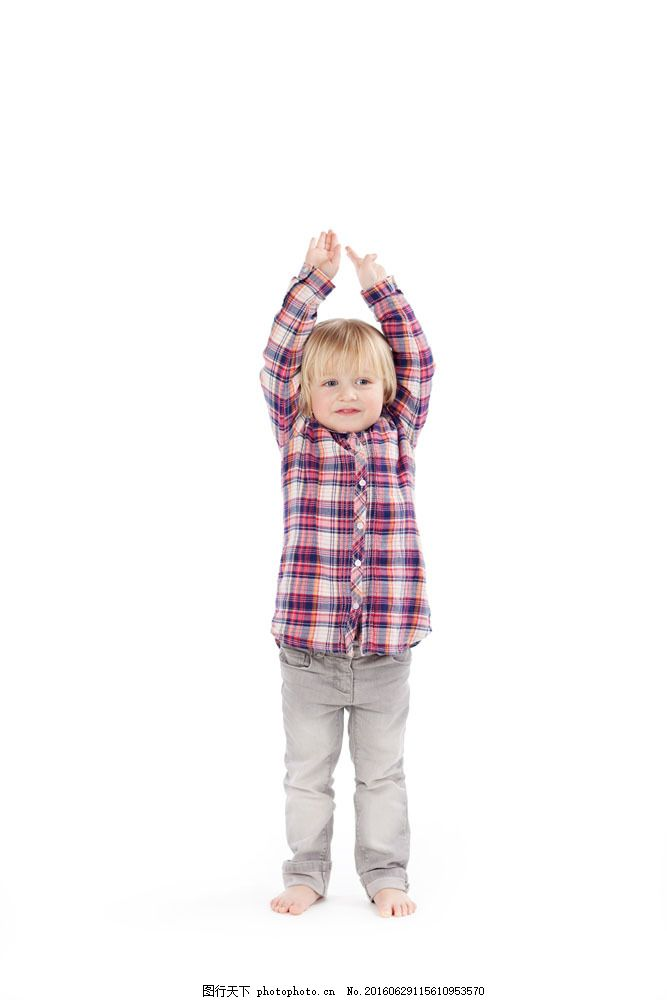handsup: (248, 187, 497, 931)
